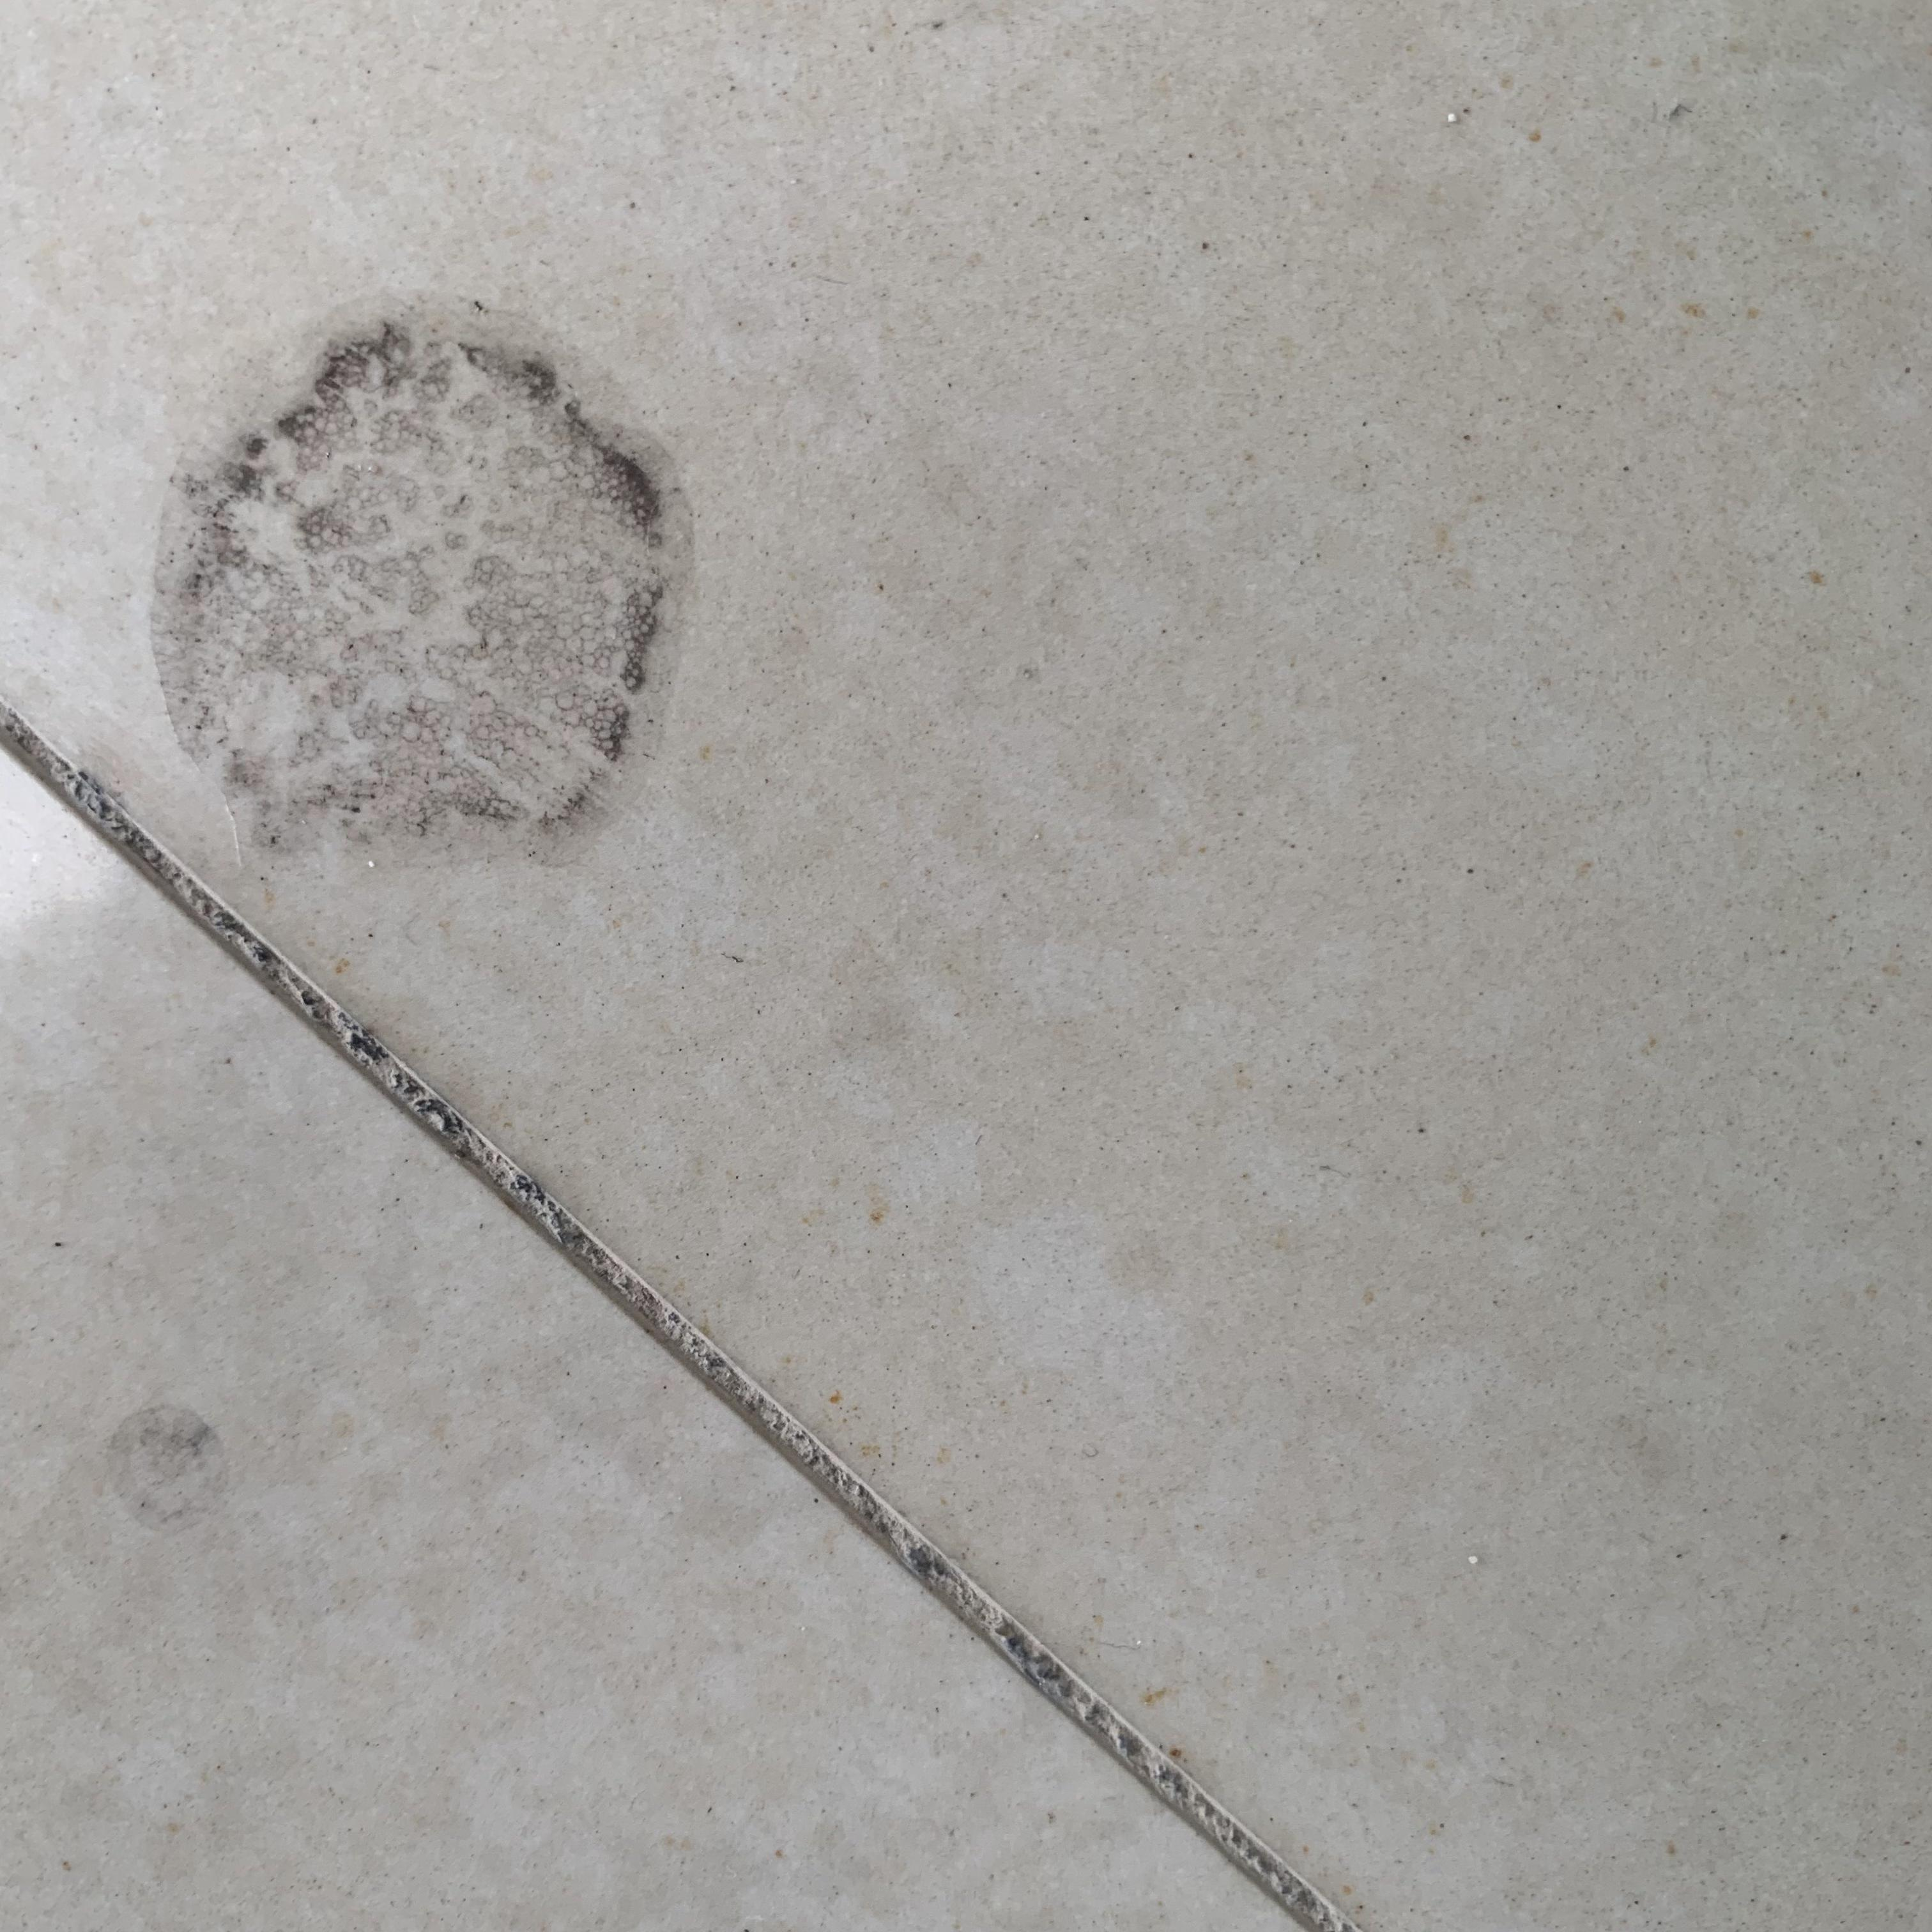grey spot: (152, 287, 692, 869)
